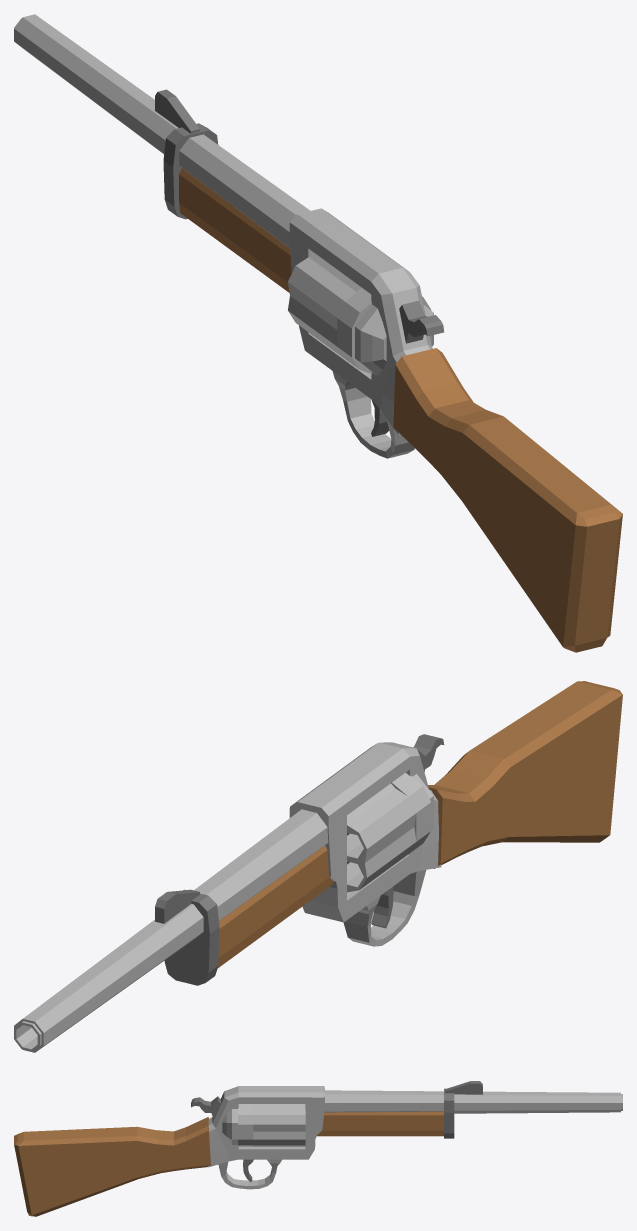
File: Revolver-Rifles-Medium.fbx
3 renders of one model, top to bottom at view 1: azimuth 30°, elevation 25°; view 2: azimuth 150°, elevation 25°; view 3: azimuth 270°, elevation 25°, orthographic. The views are drawn at different scales.
Parts seen in each view (by area): view 1: Shotgun_A.002; view 2: Shotgun_A.002; view 3: Shotgun_A.002.
Boxes of the visible parts, <box> form: Shotgun_A.002: <box>14,14,622,652</box>; Shotgun_A.002: <box>14,681,622,1052</box>; Shotgun_A.002: <box>14,1081,622,1216</box>.
Size of the model in its own units: 98.9 by 294 by 1246.
